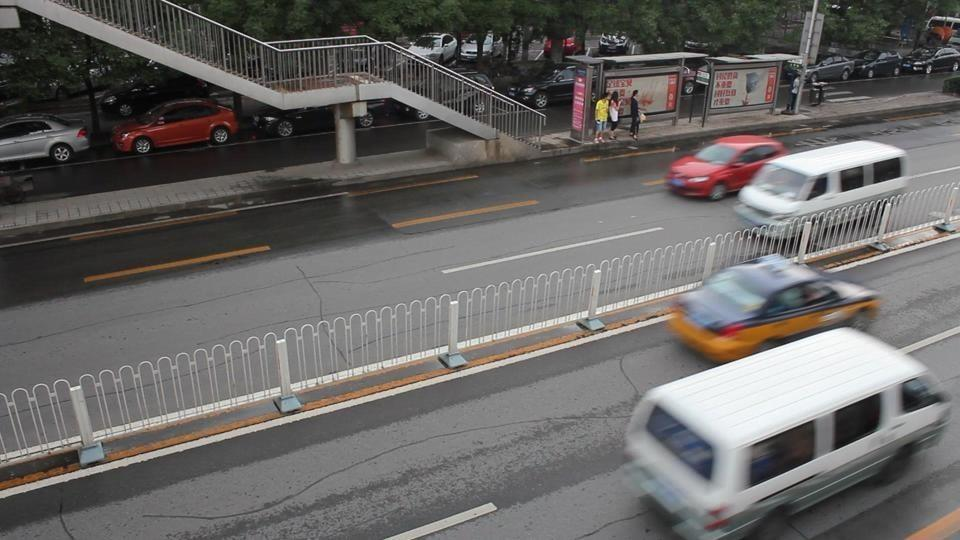car: (664, 253, 884, 363), (734, 139, 909, 228), (664, 136, 788, 200), (110, 98, 240, 155), (1, 115, 91, 166), (503, 65, 583, 109), (408, 33, 460, 65), (845, 52, 904, 80), (904, 48, 960, 76), (802, 55, 857, 82), (597, 33, 633, 55)
